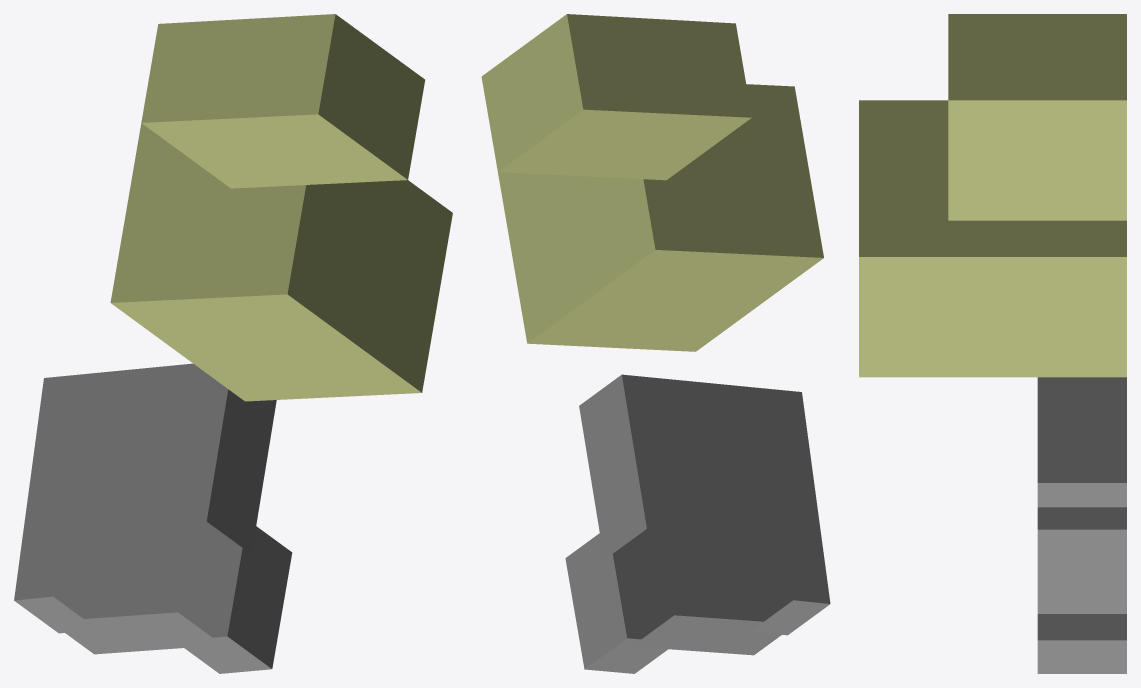
3 renders of one model, left to right at view 1: azimuth 30°, elevation 25°; view 2: azimuth 150°, elevation 25°; view 3: azimuth 270°, elevation 25°, orthographic. The views are drawn at different scales.
Parts seen in each view (by area): view 1: 0_1_2_0_3_3_2_1_3_1; view 2: 0_1_2_0_3_3_2_1_3_1; view 3: 0_1_2_0_3_3_2_1_3_1.
Part boxes in pixels (x1,y1,x2,y2): 0_1_2_0_3_3_2_1_3_1: (14,14,452,673); 0_1_2_0_3_3_2_1_3_1: (481,14,830,673); 0_1_2_0_3_3_2_1_3_1: (859,14,1126,673).
Size of the model in its own units: 12.41 by 23.21 by 9.
